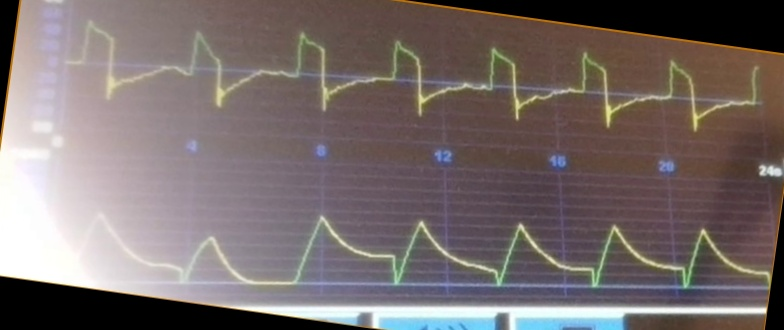Flow: (68, 20, 719, 138)
Leakage Volume: (80, 209, 764, 292)
